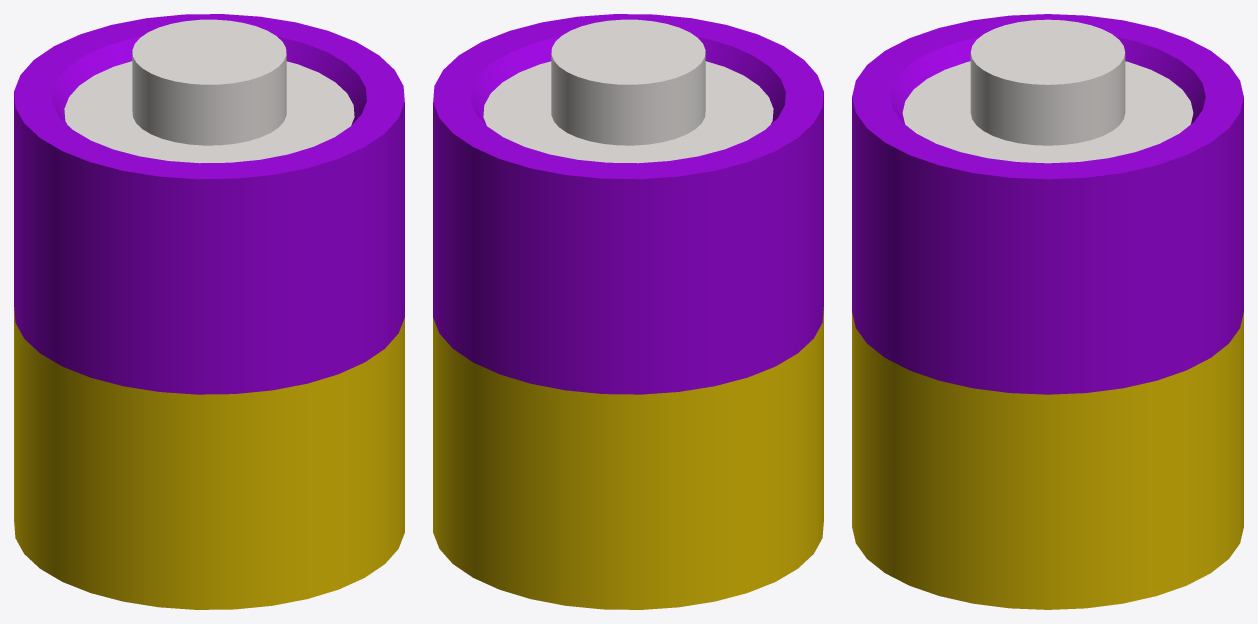
Rendered from Battery.glb.
3 renders of one model, left to right at view 1: azimuth 30°, elevation 25°; view 2: azimuth 150°, elevation 25°; view 3: azimuth 270°, elevation 25°, orthographic.
Parts seen in each view (by area): view 1: Cylinder; view 2: Cylinder; view 3: Cylinder.
Part boxes in pixels (x1,y1,x2,y2): Cylinder: (14,14,404,609); Cylinder: (433,14,823,609); Cylinder: (852,14,1243,609).
Bounding box in the file's own units: 0.9471 × 1.27 × 0.9483.
